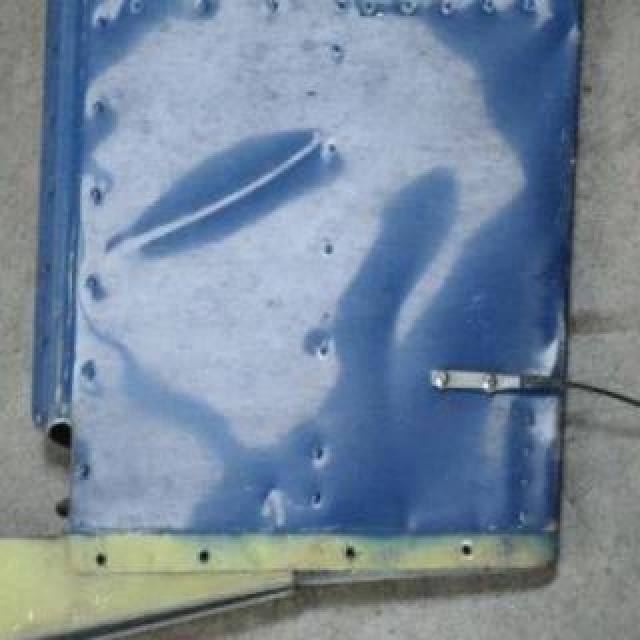dent: (117, 130, 329, 246)
